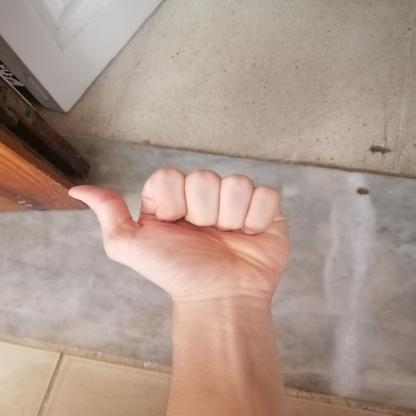DAD: (53, 158, 303, 309)
